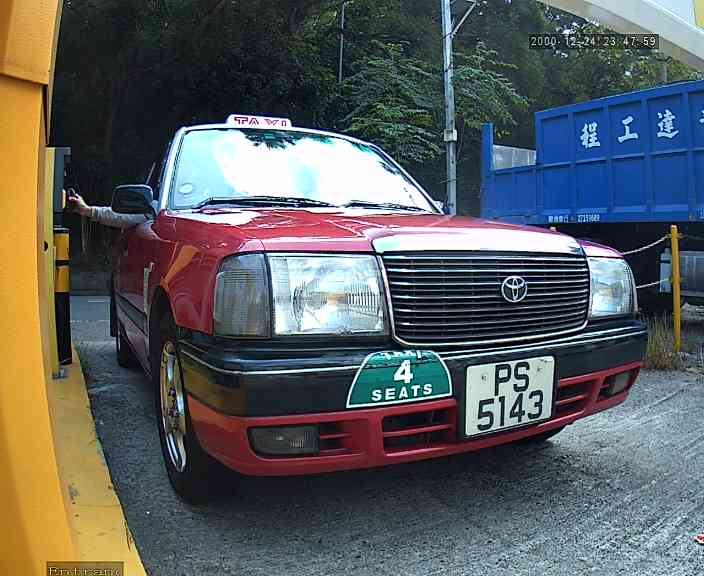taxi: (87, 102, 654, 520)
taxi_mark: (318, 328, 460, 430)
